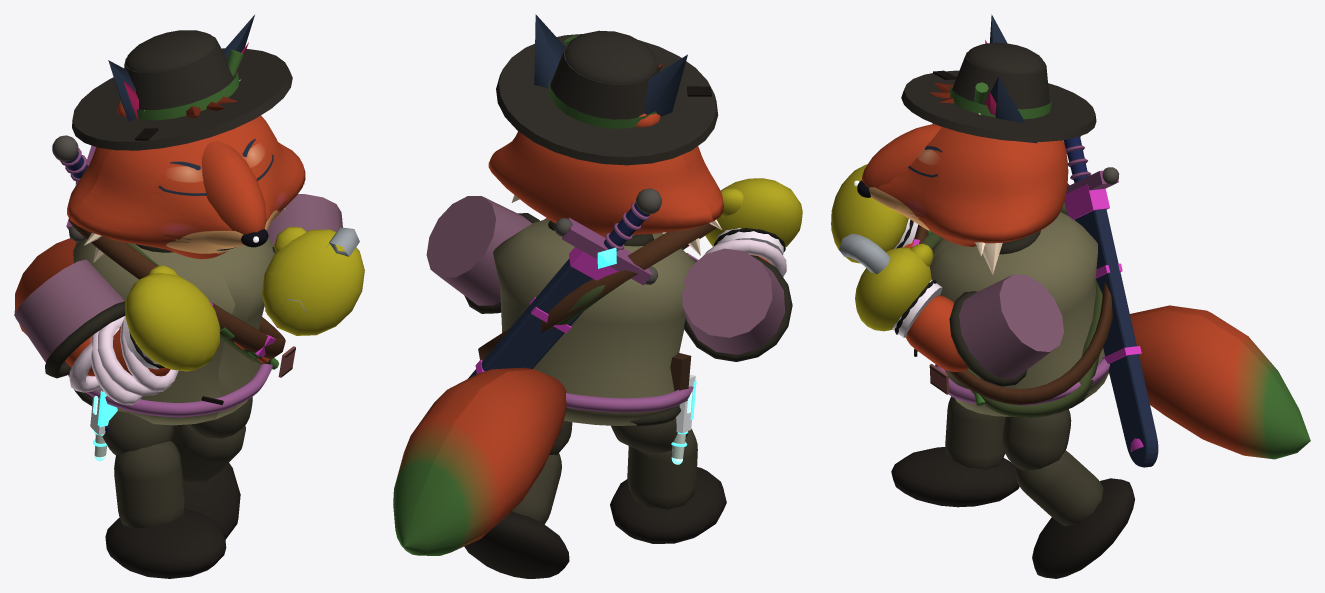
Rendered from jack_alt2.glb.
3 renders of one model, left to right at view 1: azimuth 30°, elevation 25°; view 2: azimuth 150°, elevation 25°; view 3: azimuth 270°, elevation 25°, orthographic. The views are drawn at different scales.
Parts seen in each view (by area): view 1: JALAPEÑO JACK ALT 2, object 9, object 34, object 30, object 10, object 2, object 11, object 12, object 3, object 6; view 2: JALAPEÑO JACK ALT 2, object 9, object 11, object 30, object 10, object 3, object 6, object 12, object 32; view 3: JALAPEÑO JACK ALT 2, object 9, object 34, object 30, object 10, object 11, object 2, object 6, object 12, object 36.
Boxes of the visible parts, x1,y1,x2,y2 form: JALAPEÑO JACK ALT 2: (14, 96, 359, 578); object 9: (72, 48, 292, 150); object 34: (261, 229, 364, 335); object 30: (125, 272, 220, 371); object 10: (124, 36, 235, 109); object 2: (153, 139, 285, 254); object 11: (125, 30, 216, 72); object 12: (119, 71, 239, 120); object 3: (108, 60, 135, 121); object 6: (223, 15, 254, 59); JALAPEÑO JACK ALT 2: (393, 64, 792, 578); object 9: (496, 34, 718, 165); object 11: (564, 30, 656, 84); object 30: (705, 178, 802, 247); object 10: (550, 37, 659, 119); object 3: (644, 54, 687, 116); object 6: (534, 14, 565, 88); object 12: (548, 78, 656, 128); object 32: (717, 228, 783, 254); JALAPEÑO JACK ALT 2: (839, 82, 1310, 578); object 9: (901, 70, 1096, 141); object 34: (855, 247, 931, 331); object 30: (831, 164, 908, 263); object 10: (952, 51, 1049, 109); object 11: (966, 42, 1045, 74); object 2: (869, 123, 942, 230); object 6: (990, 76, 1037, 143); object 12: (949, 86, 1052, 119); object 36: (892, 280, 942, 337).
Size of the model in its own units: 1.81 by 2.83 by 2.43.
114 materials, 1 textured.
